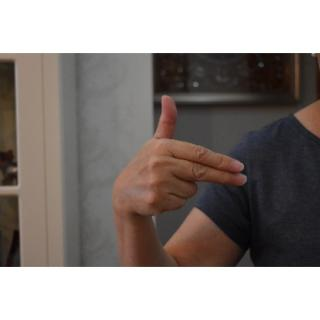GHAYN: (108, 91, 252, 222)
